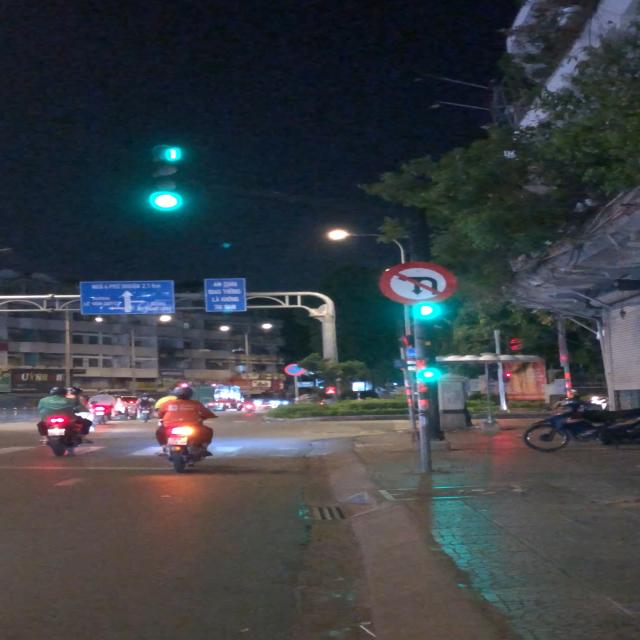Bien bao cam re trai va quay dau: (374, 258, 462, 304)
